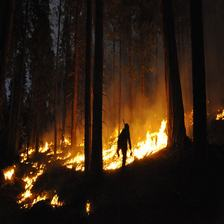fire: (10, 134, 96, 213), (97, 132, 182, 174)
